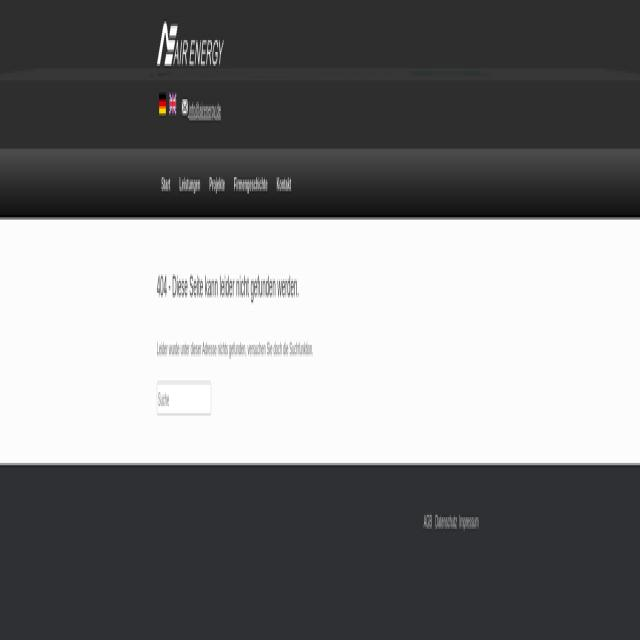button: (156, 0, 223, 87), (230, 148, 272, 220), (175, 148, 205, 220), (205, 148, 229, 220), (272, 148, 296, 220), (157, 148, 175, 220), (170, 93, 177, 117), (159, 94, 166, 116)
field: (157, 383, 211, 413)
